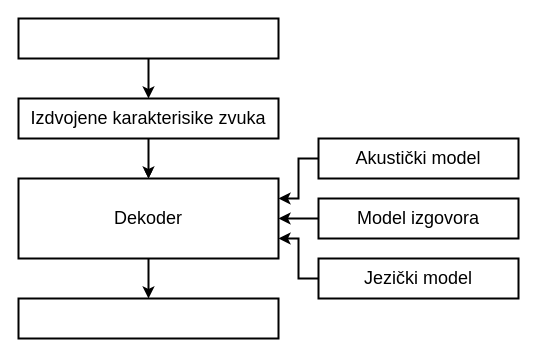
This 536x356 diagram has some shape labels left out. The shapes that lost their labels are listed below. From the top down, each one's centre as x and y in pixels, then its label:
At point 148,38: "Zvučni signal".
At point 148,318: "Transkripcija".
